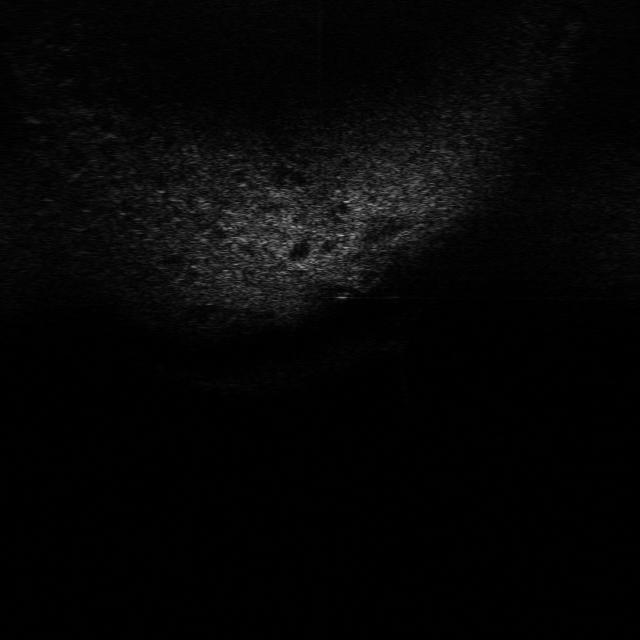ball: (372, 274, 413, 306)
